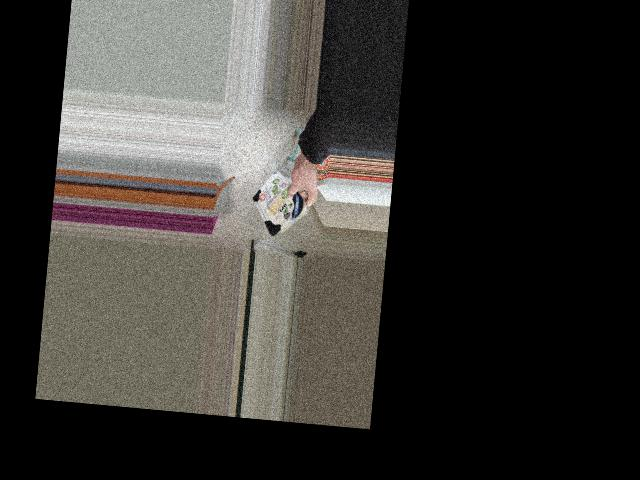cheese: (243, 178, 322, 238)
